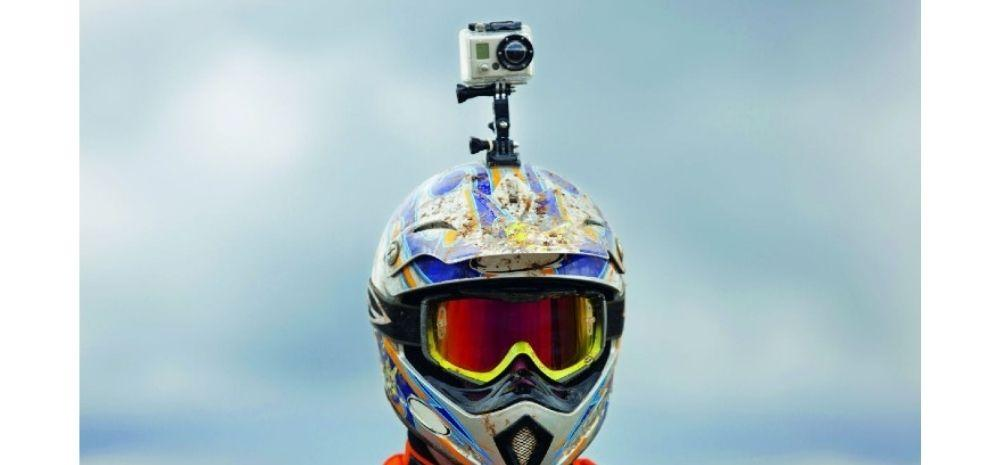Helmet: (365, 21, 627, 465)
